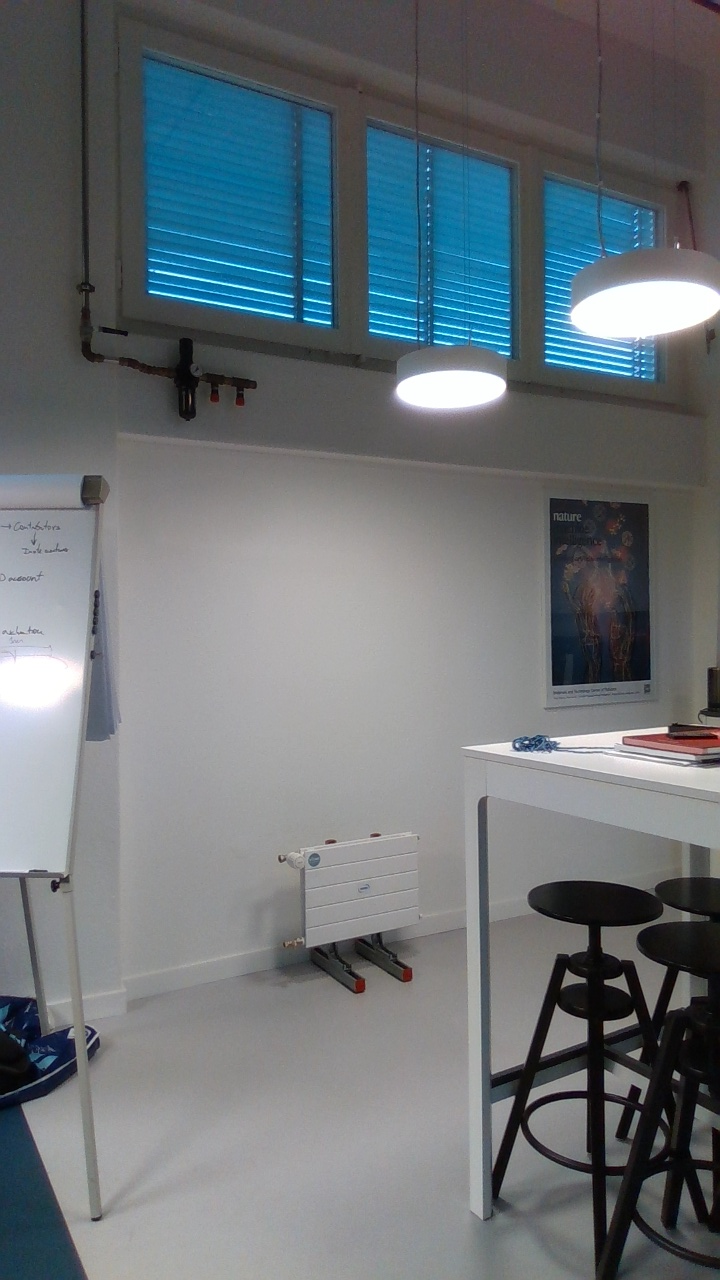Radiator: (297, 825, 423, 949)
